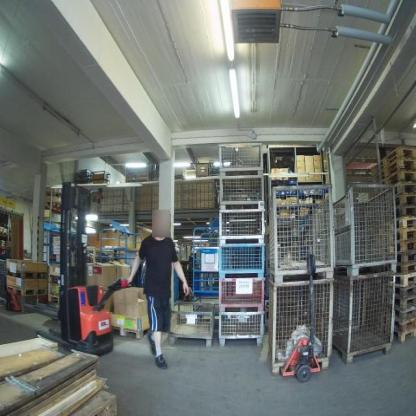pallet: (372, 148, 416, 166), (109, 325, 152, 342), (6, 267, 49, 281), (6, 284, 49, 298), (372, 165, 416, 178), (373, 173, 413, 182), (395, 183, 415, 196), (396, 251, 415, 264), (395, 308, 415, 318), (396, 298, 415, 308), (396, 320, 415, 330), (398, 285, 415, 296), (399, 228, 415, 238), (397, 239, 413, 249), (396, 198, 415, 206), (399, 265, 415, 274), (397, 331, 414, 339), (398, 276, 414, 284), (398, 219, 415, 226), (399, 209, 415, 216)
pallet_truck: (36, 183, 136, 367), (280, 249, 330, 381), (4, 281, 23, 315)
stillage: (263, 185, 333, 375), (334, 184, 396, 277), (334, 271, 395, 362), (169, 302, 213, 348), (219, 170, 265, 209), (218, 210, 269, 244), (218, 312, 264, 349), (219, 243, 268, 276), (219, 278, 267, 310), (220, 142, 265, 173)
